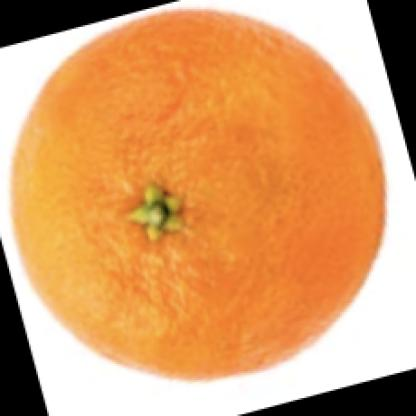fresh: (12, 11, 388, 378)
